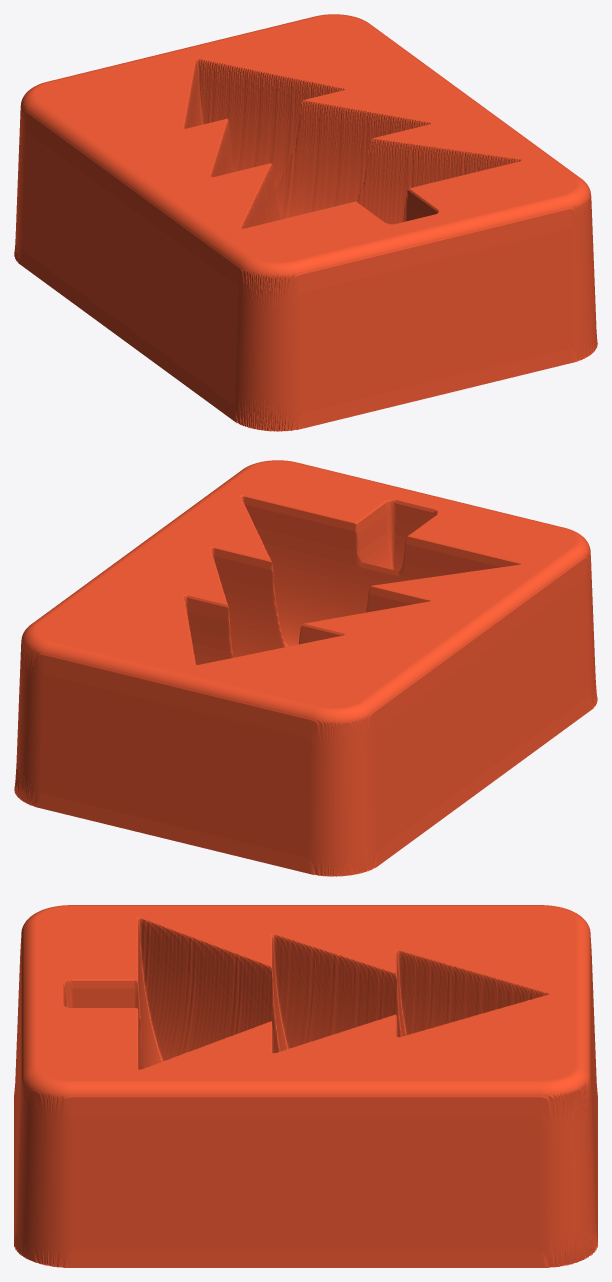
The model's file is mold.glb.
3 views of the same model, one above another, from view 1: azimuth 30°, elevation 25°; view 2: azimuth 150°, elevation 25°; view 3: azimuth 270°, elevation 25° (orthographic). The views are drawn at different scales.
Visible parts, largest first — view 1: geometry_0; view 2: geometry_0; view 3: geometry_0.
Part boxes in pixels (box(x1,y1,x2,y2)): geometry_0: box(14, 14, 597, 431); geometry_0: box(14, 460, 597, 876); geometry_0: box(14, 905, 597, 1267).
Bounding box in the file's own units: 0.0724 × 0.031 × 0.0924.
